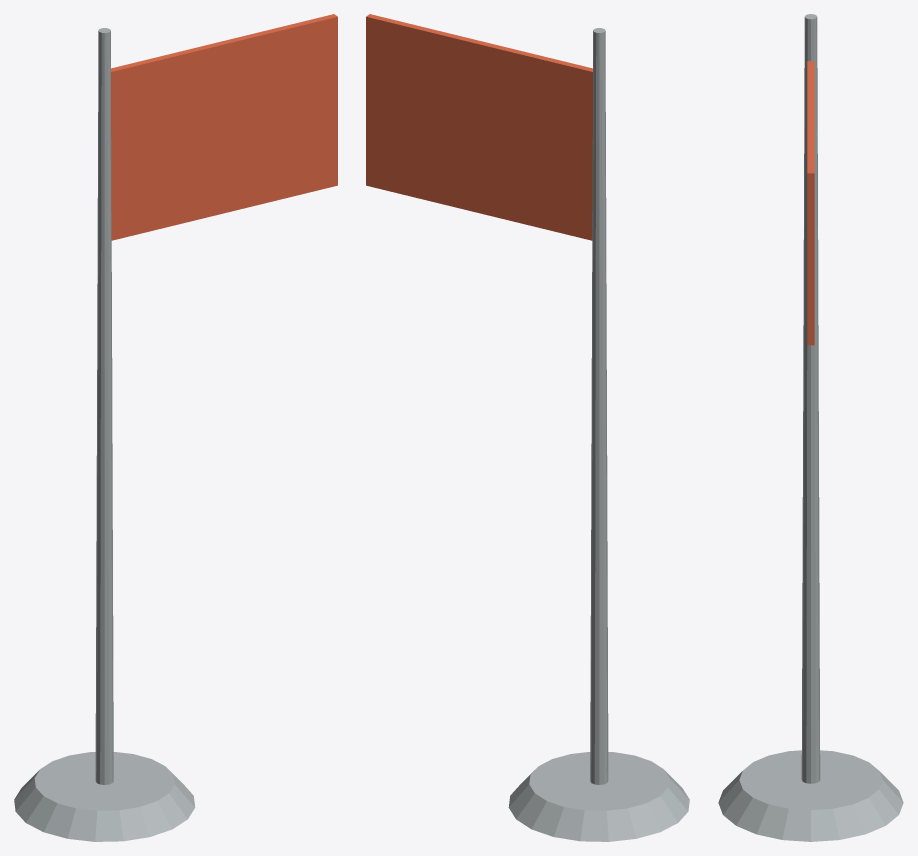
File: blank-marshal-flag-on-pole.glb
The picture shows the model from 3 angles, left to right: view 1: azimuth 30°, elevation 25°; view 2: azimuth 150°, elevation 25°; view 3: azimuth 270°, elevation 25°; orthographic projection.
Parts seen in each view (by area): view 1: marshal-flag; view 2: marshal-flag; view 3: marshal-flag.
Boxes of the visible parts, x1,y1,x2,y2 form: marshal-flag: (14, 14, 337, 841); marshal-flag: (366, 14, 689, 841); marshal-flag: (718, 14, 903, 841).
Bounding box in the file's own units: 0.865 × 2.06 × 0.4401.
